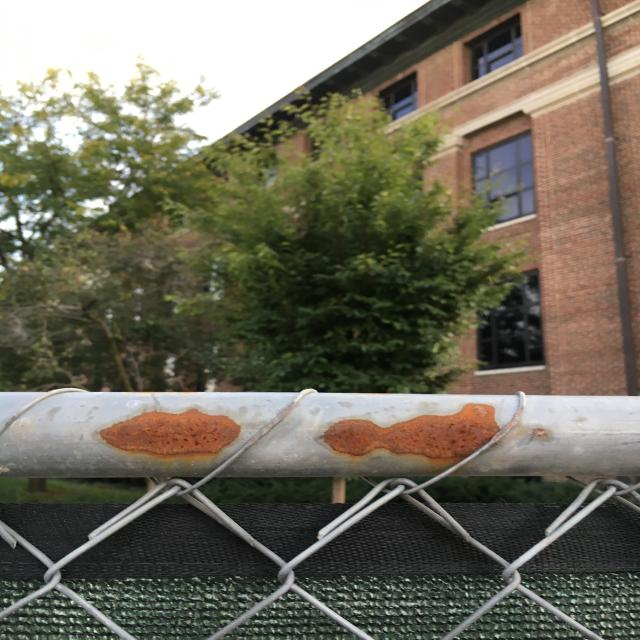corrosion: (323, 402, 501, 461), (95, 410, 242, 457)
